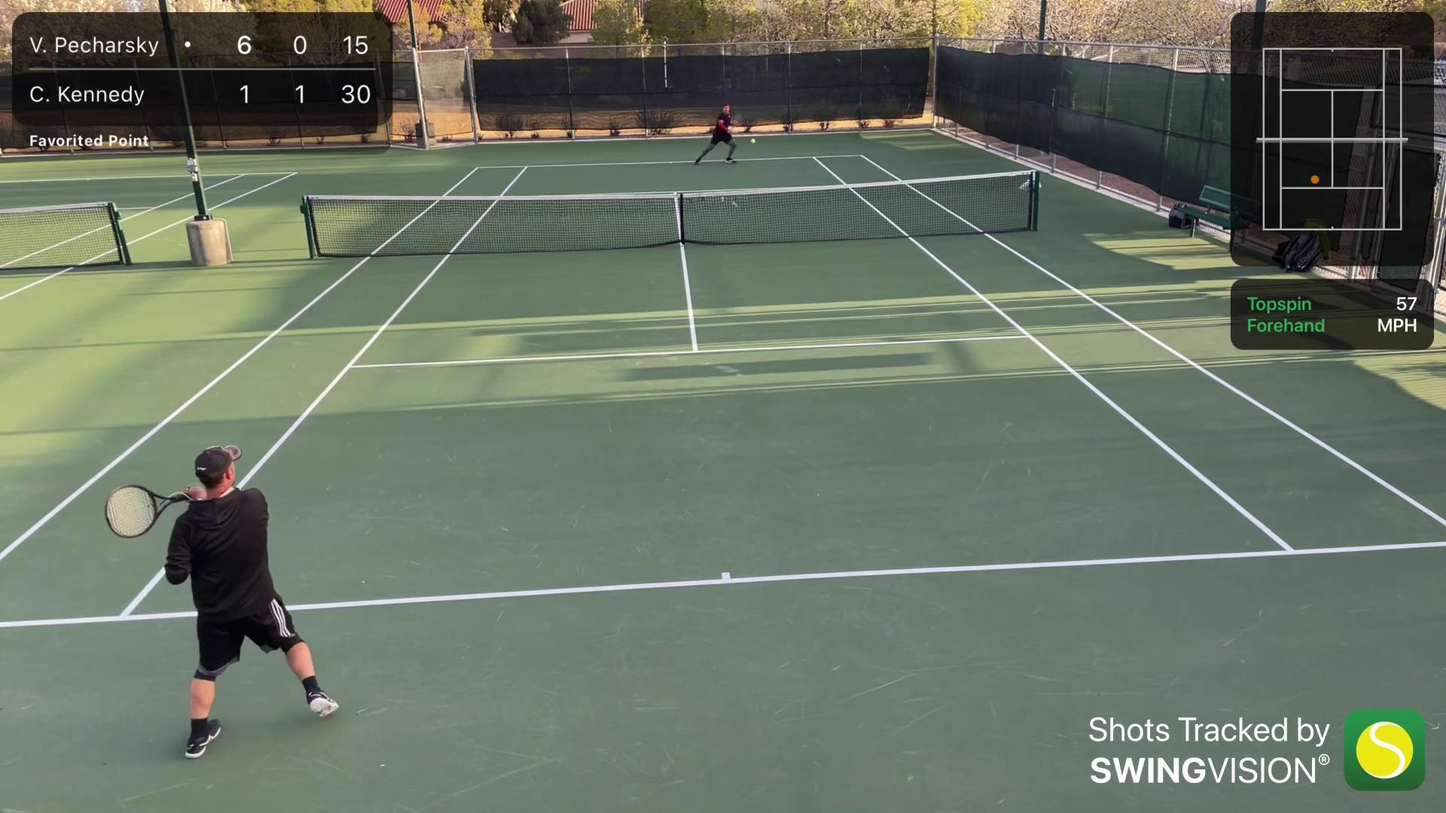ball: (750, 138, 755, 144)
